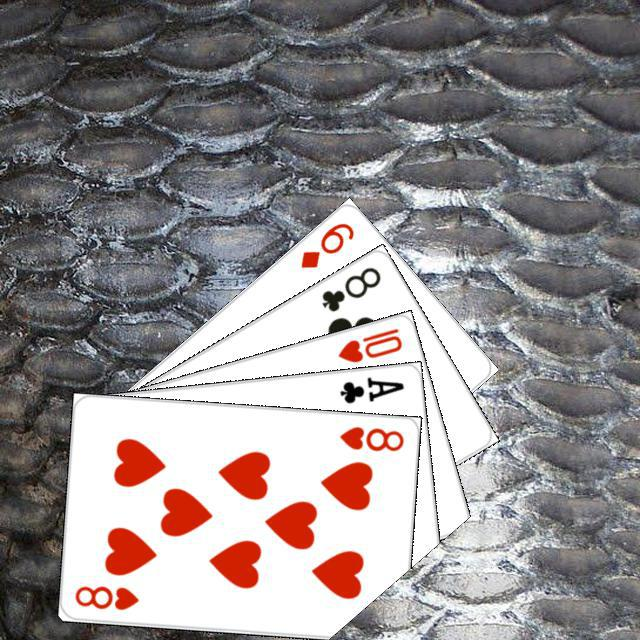10h: (333, 323, 404, 365)
6d: (295, 217, 356, 271)
8c: (316, 262, 383, 314)
8h: (335, 421, 406, 453), (70, 581, 140, 612)
Ac: (335, 372, 406, 405)
